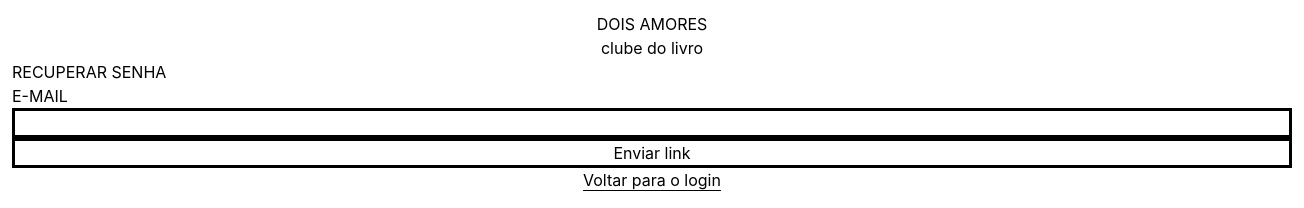
Test: recuperação de senha › envia o link apontando para /redefinir-senha
Type "irla@example.com" into the field labelled "E-mail" at (652, 123), box [12,108,1292,138]
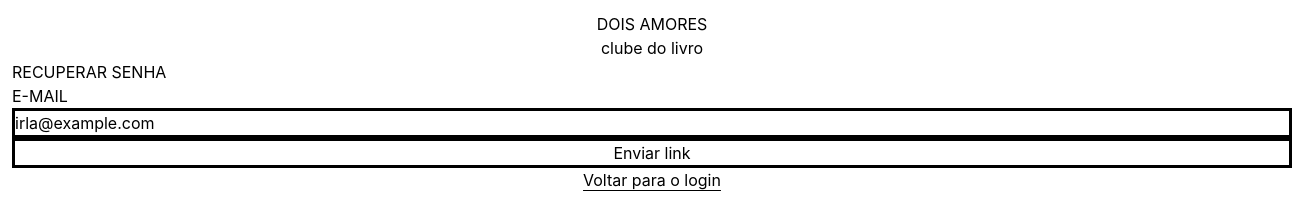
Click the button "Enviar link" at (652, 153), box [12,138,1292,168]
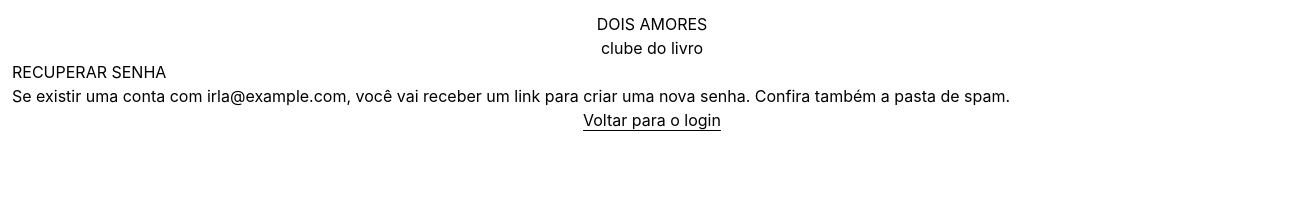
Result: the message shows "irla@example.com" at [207,86,346,106]
